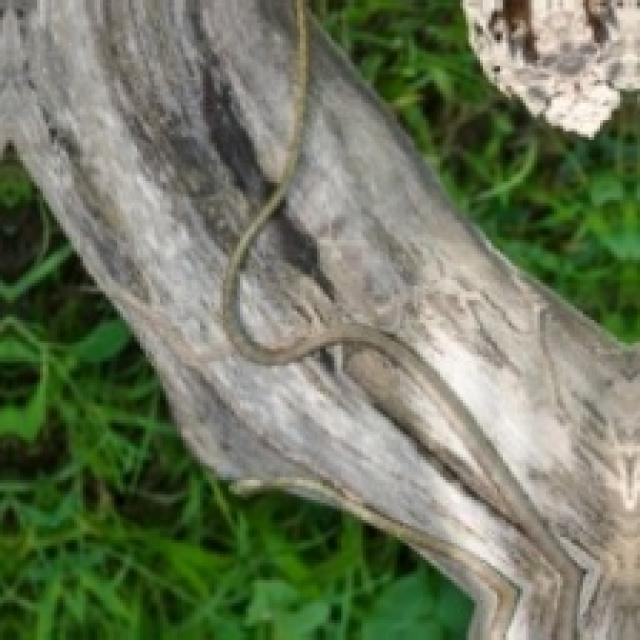paradise tree snake: (0, 0, 637, 637), (266, 26, 637, 637)
